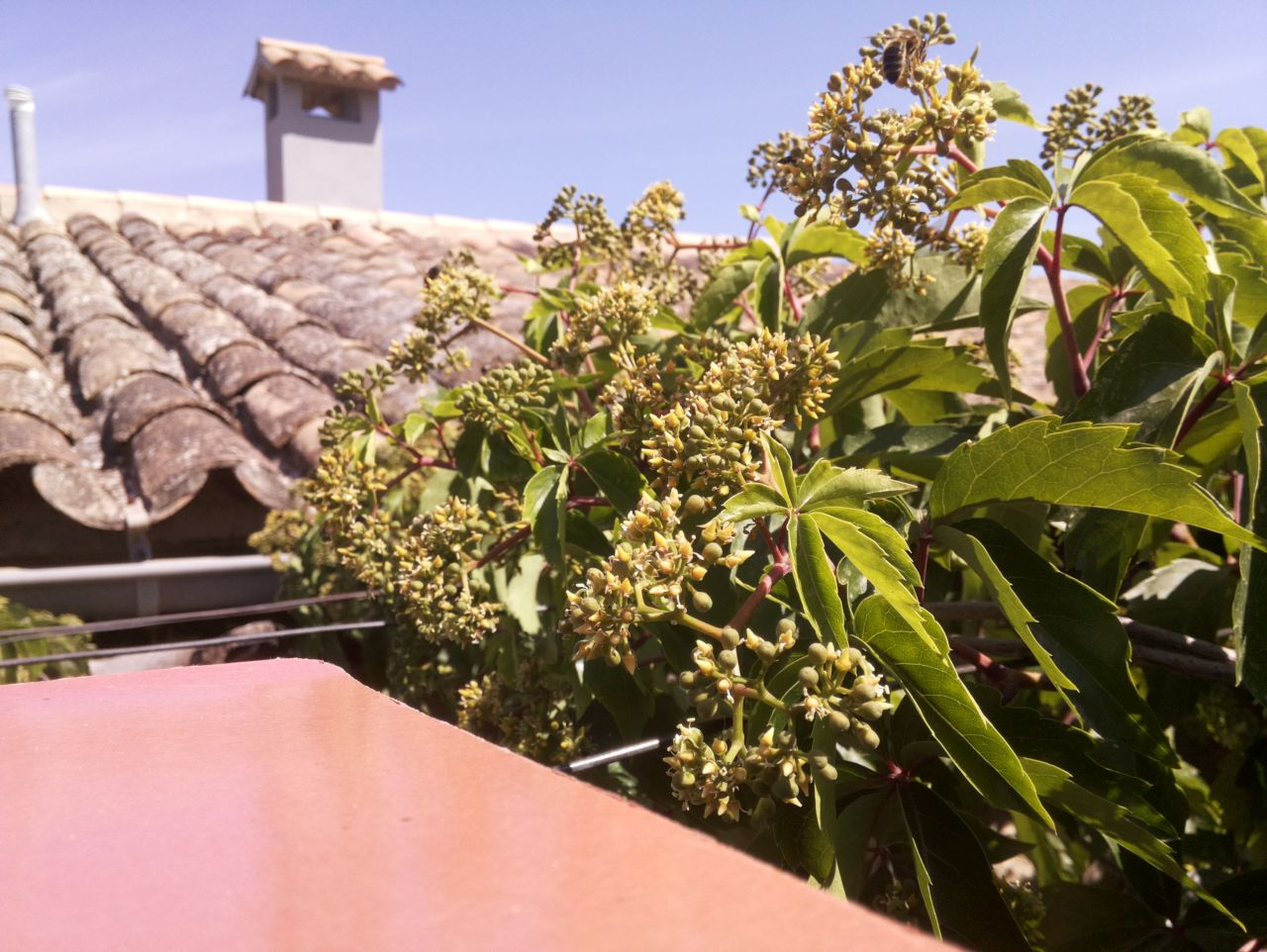Apis mellifera: (865, 28, 932, 89)
Unidentified insect: (407, 255, 456, 292)
